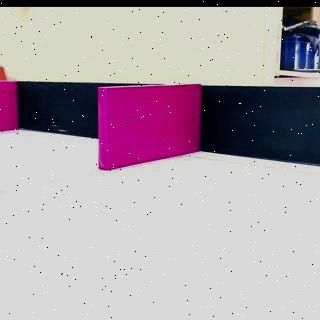xparking: (99, 86, 200, 158), (2, 82, 16, 132)
